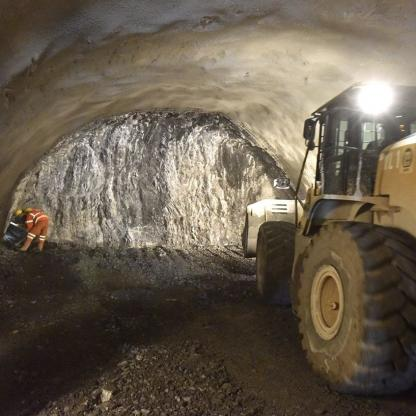bull_dozer/loader/grader: (230, 65, 416, 399)
person: (7, 201, 59, 256)
